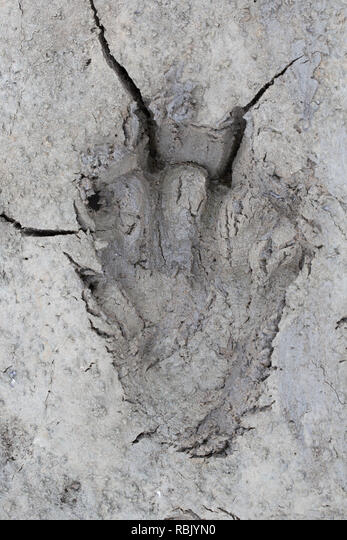beaver: (62, 99, 318, 470)
